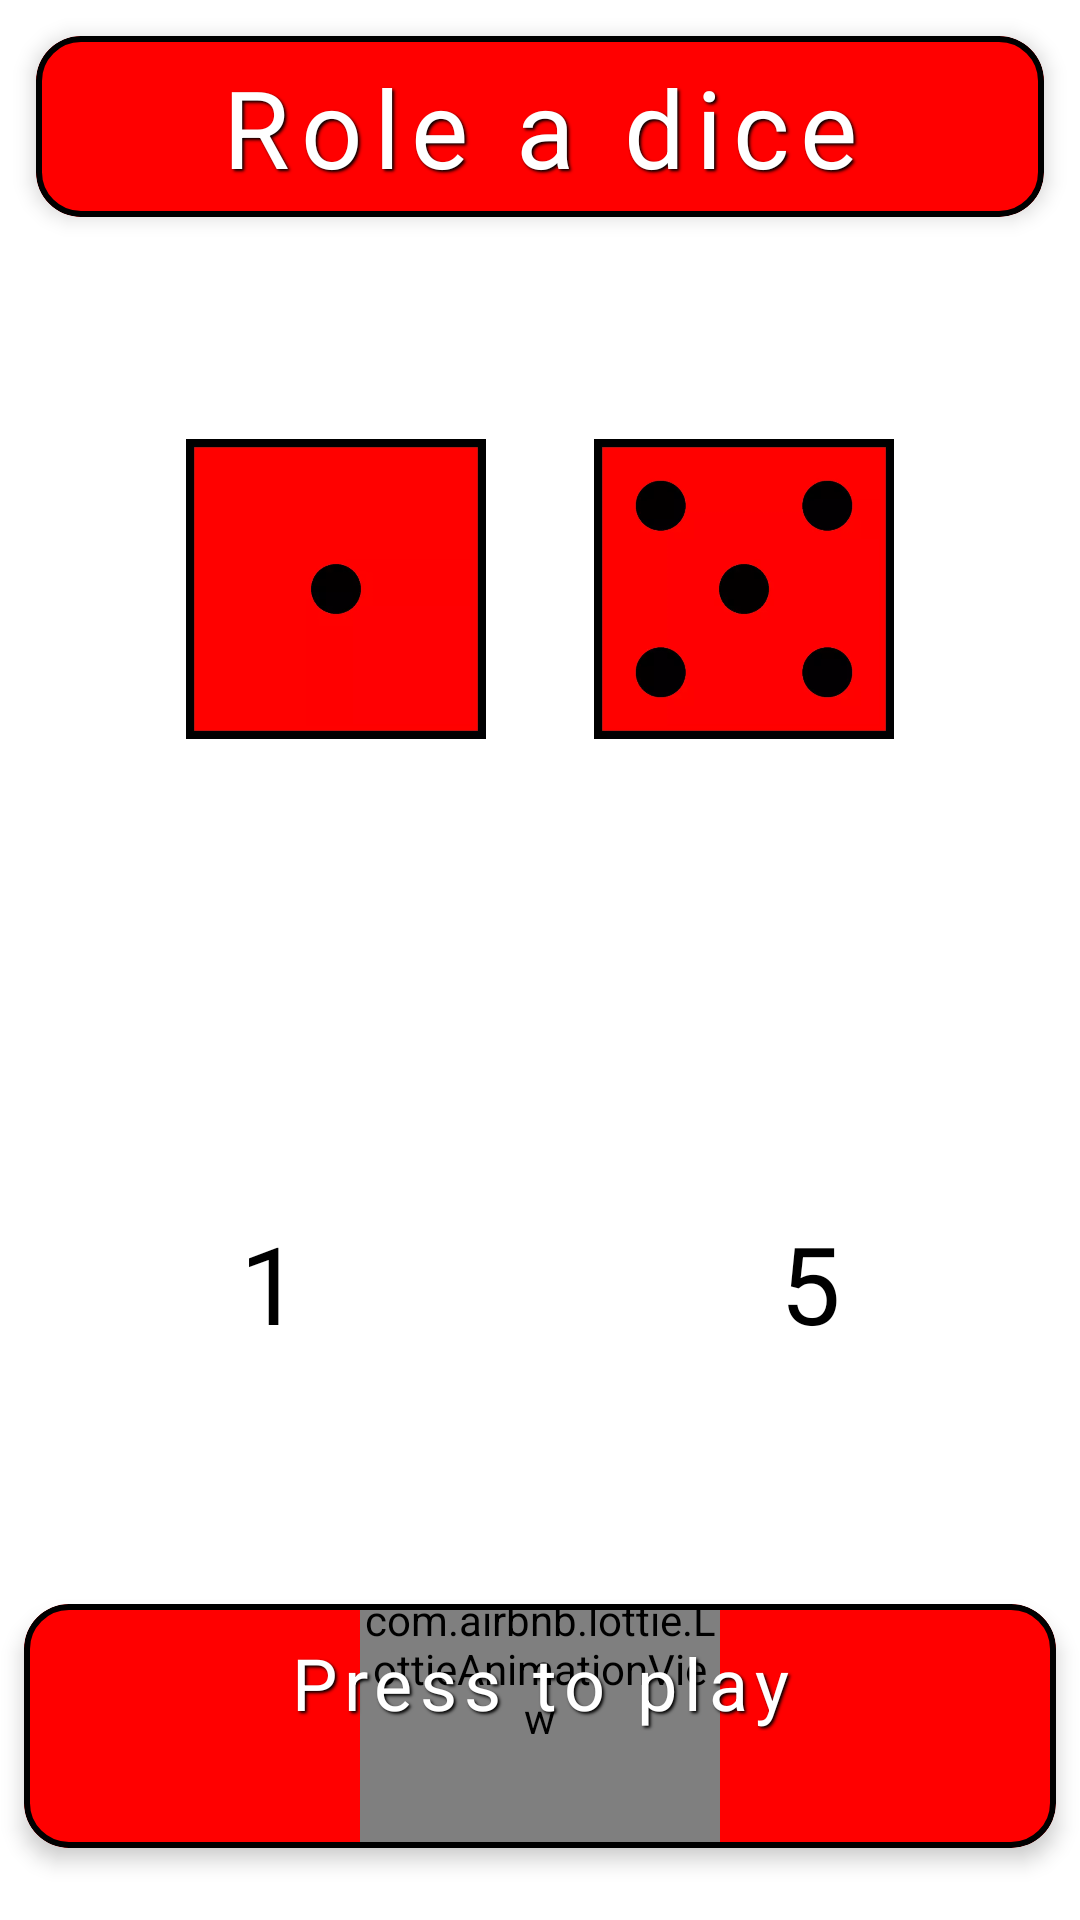

Icon bounding boxes for this 1080x1920 phone screenshot, format (x1, y1, x2, y2):
dice: (186, 439, 486, 739), (594, 439, 894, 739)
